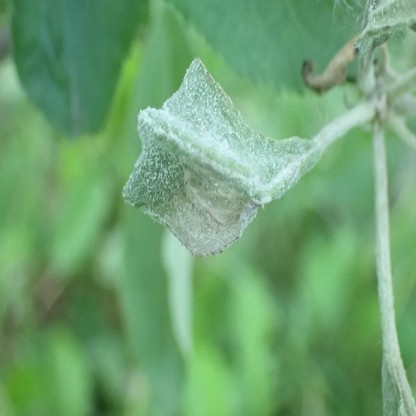powder: (122, 56, 316, 258), (355, 0, 399, 51)
